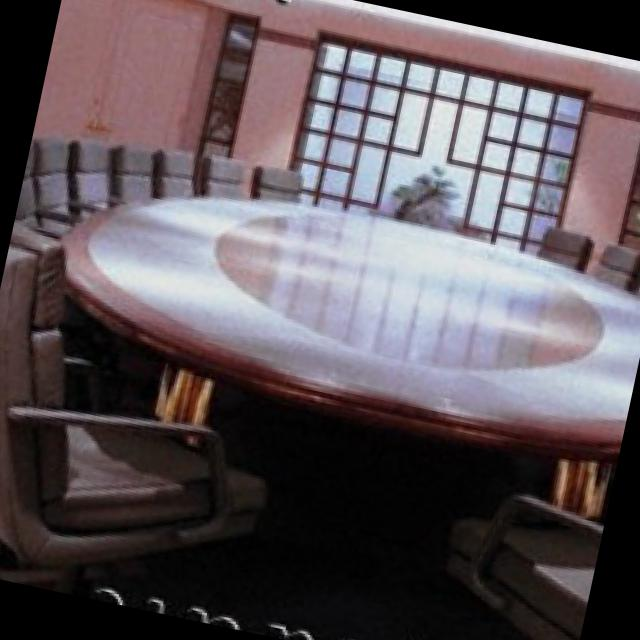2001: (287, 33, 584, 246)
ceiling beam: (205, 0, 640, 107)
chair: (68, 132, 113, 213), (30, 129, 65, 220), (535, 222, 590, 277), (106, 135, 152, 200), (593, 239, 640, 294), (247, 161, 303, 203), (151, 145, 190, 198), (194, 155, 240, 196)
chair -occluded-: (0, 215, 260, 565)
conference table: (62, 193, 640, 419)
display case: (200, 16, 256, 155), (616, 114, 640, 248)
statue: (387, 160, 459, 224)
wall: (614, 132, 640, 262)
wall clock: (33, 0, 211, 142)
